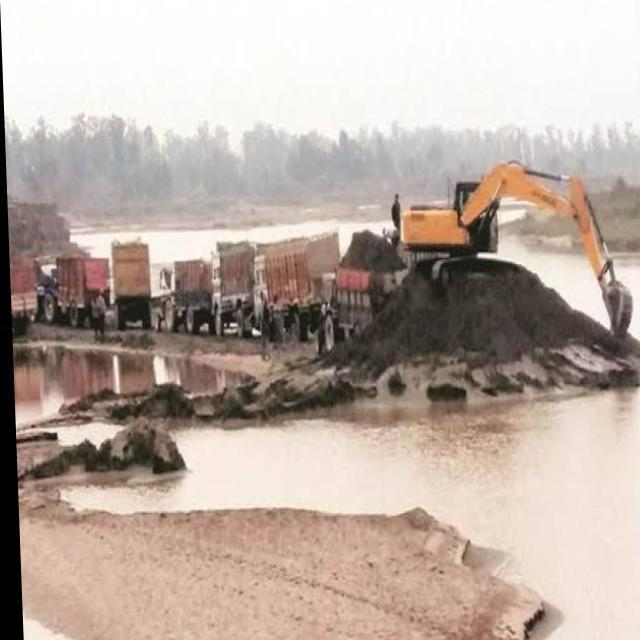uncovered: (212, 227, 282, 380), (332, 228, 389, 358), (252, 234, 323, 334), (110, 234, 156, 340)
